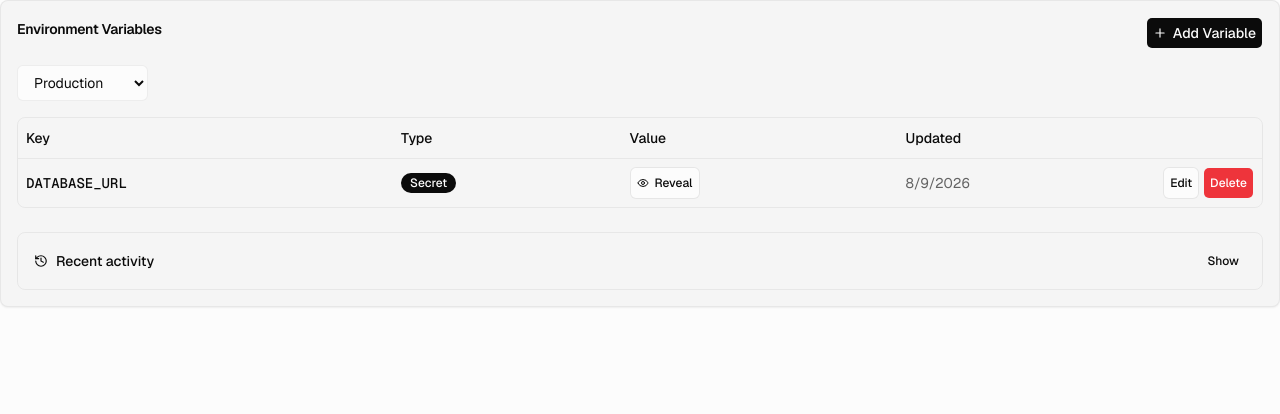
Test: EnvironmentVariablesManager › refreshes an open activity panel after a secret reveal
The image size is (1280, 414).
Expected: the text "DATABASE_URL" is shown, x1=18 y1=158 x2=393 y2=206
Click the button "Show". click: (1223, 260)
box: x1=1200 y1=244 x2=1246 y2=276
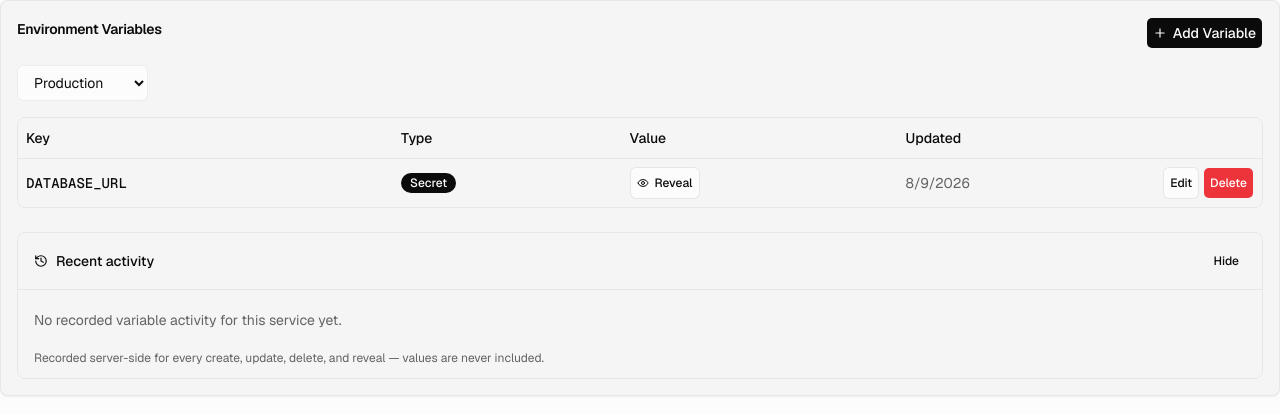
Expected: the text "No recorded variable activity for this service yet." is shown, x1=34 y1=310 x2=342 y2=328
Click the button with aria-label "Reveal value of DATABASE_URL". click: (664, 182)
box: x1=630 y1=166 x2=700 y2=198
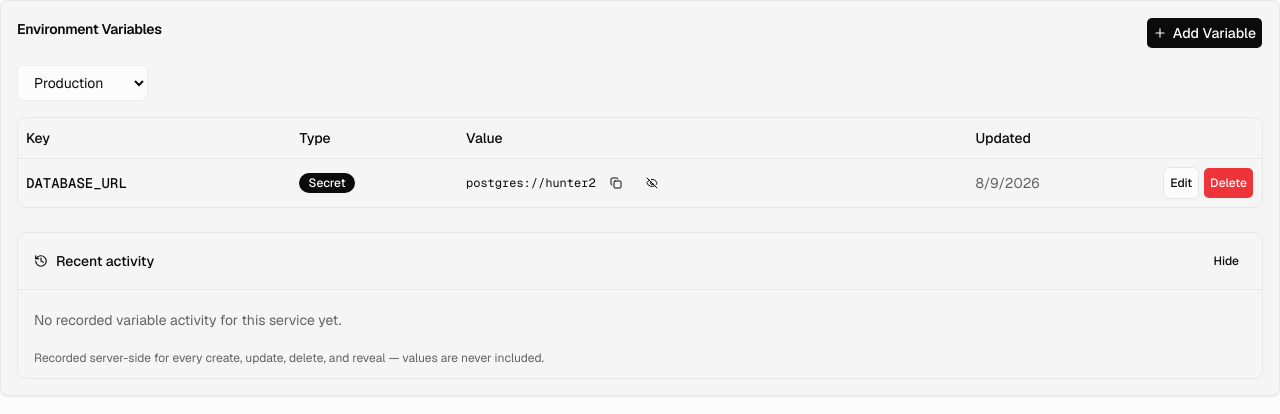
Expected: the text "postgres://hunter2" is shown, x1=466 y1=174 x2=596 y2=190
